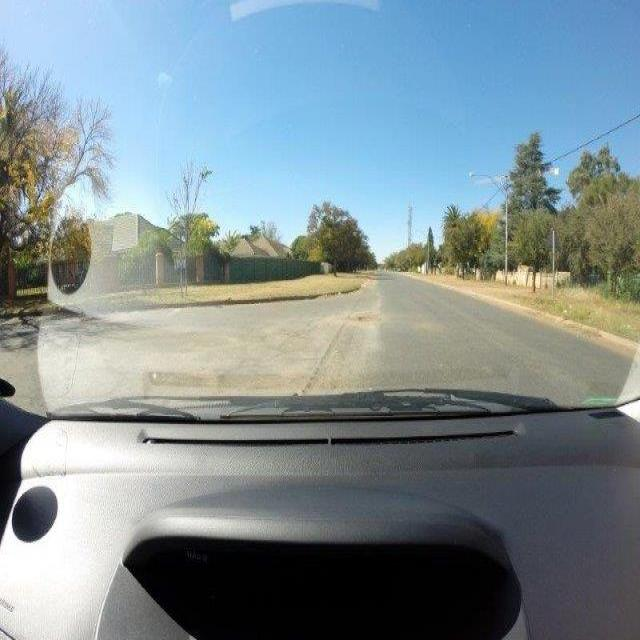lubang: (353, 311, 381, 325)
